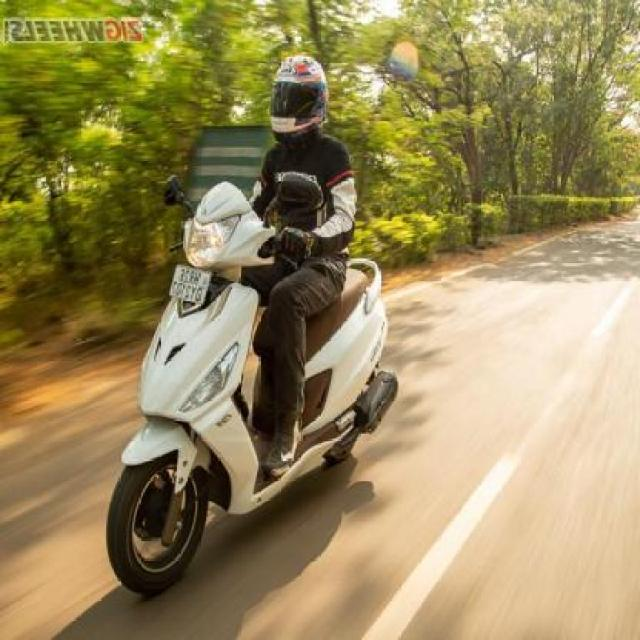helmet: (266, 51, 336, 158)
motorcycle: (81, 45, 422, 605)
